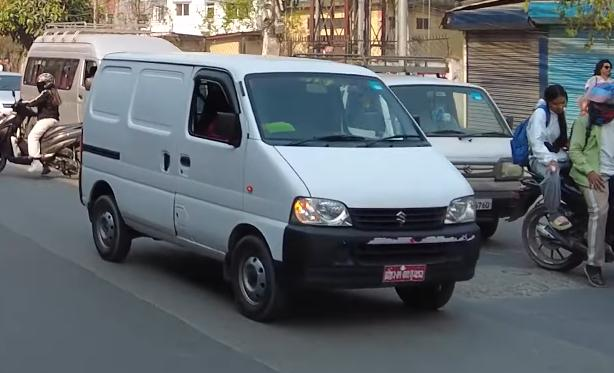micro_bus: (17, 18, 186, 126)
scooter: (0, 91, 85, 180)
van: (73, 43, 477, 324), (377, 54, 528, 241)
